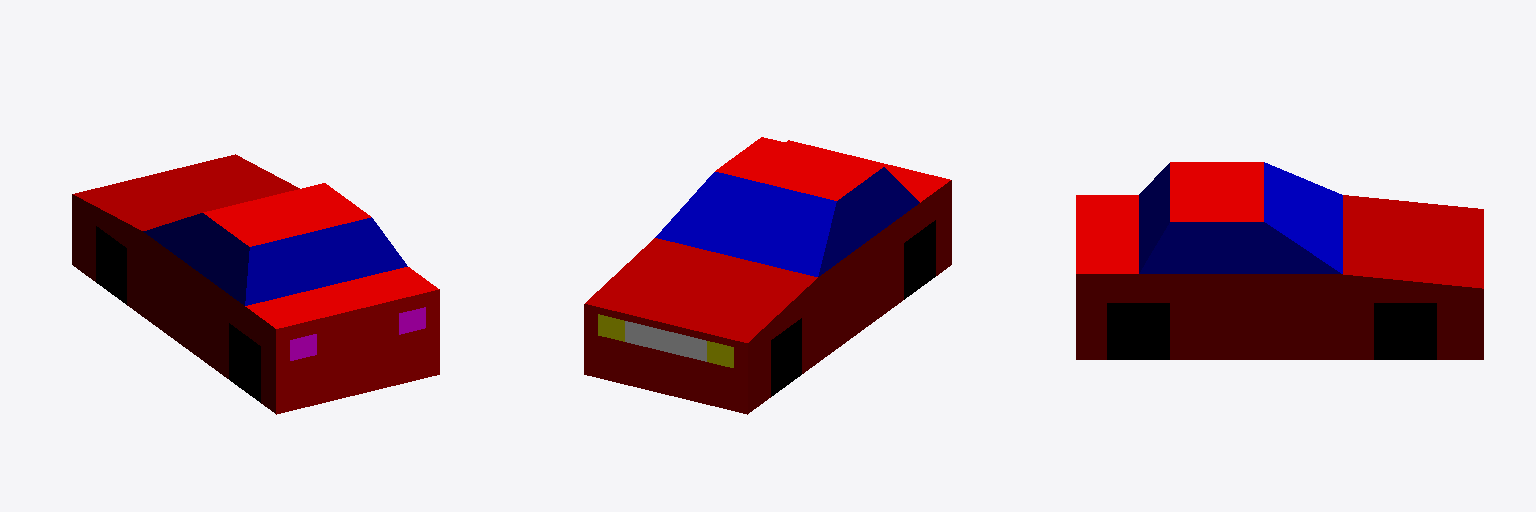
The model's file is common_car.obj.
The picture shows the model from 3 angles: view 1: azimuth 30°, elevation 25°; view 2: azimuth 150°, elevation 25°; view 3: azimuth 270°, elevation 25°; orthographic projection.
Parts seen in each view (by area): view 1: Plane; view 2: Plane; view 3: Plane.
Boxes of the visible parts, box(x1,y1,x2,y2) form: Plane: box(72, 154, 439, 414); Plane: box(584, 137, 951, 414); Plane: box(1076, 162, 1483, 359).
Bounding box in the file's own units: 12 × 9 × 26.